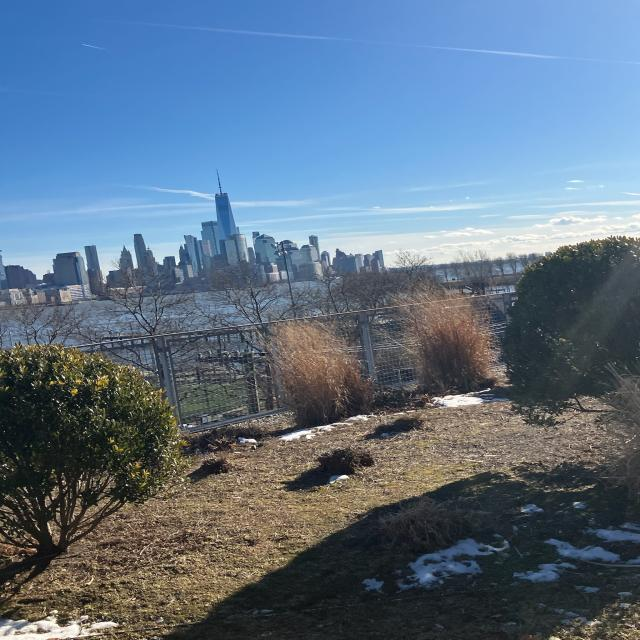WTC: (211, 167, 239, 238)
